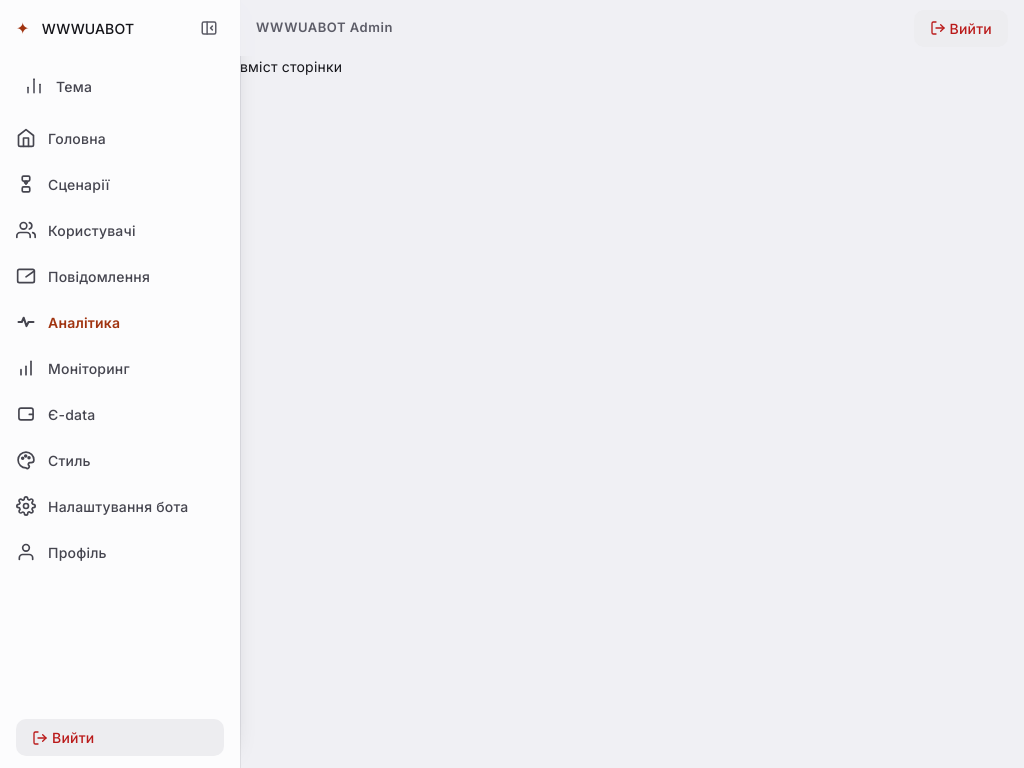
каркас панелі › тумблер згортає меню: підписи зникають, пункт лишається знаком
The width and height of the screenshot is (1024, 768).
Expected: the text "Головна" is shown, [48,130,106,146]
Click the button named "Згорнути бічне меню".
click(209, 28)  # box [194,13,224,43]
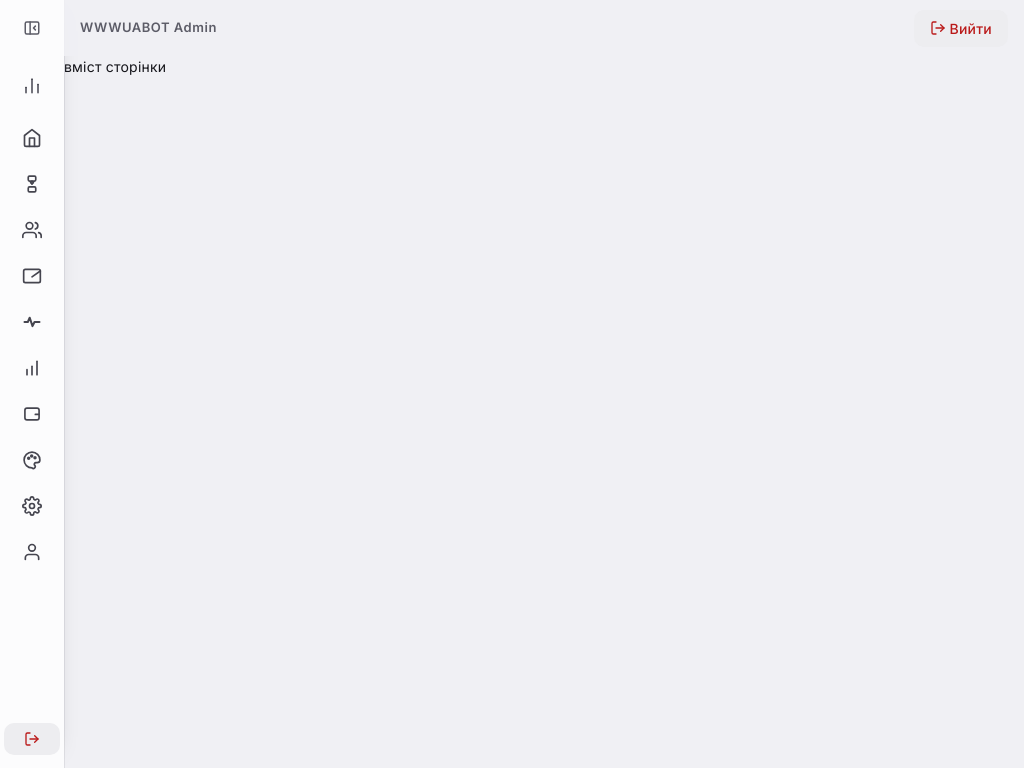
Expected: the link named "Головна" is shown, [22,128,42,148]
Expected: the text "Головна" is gone
